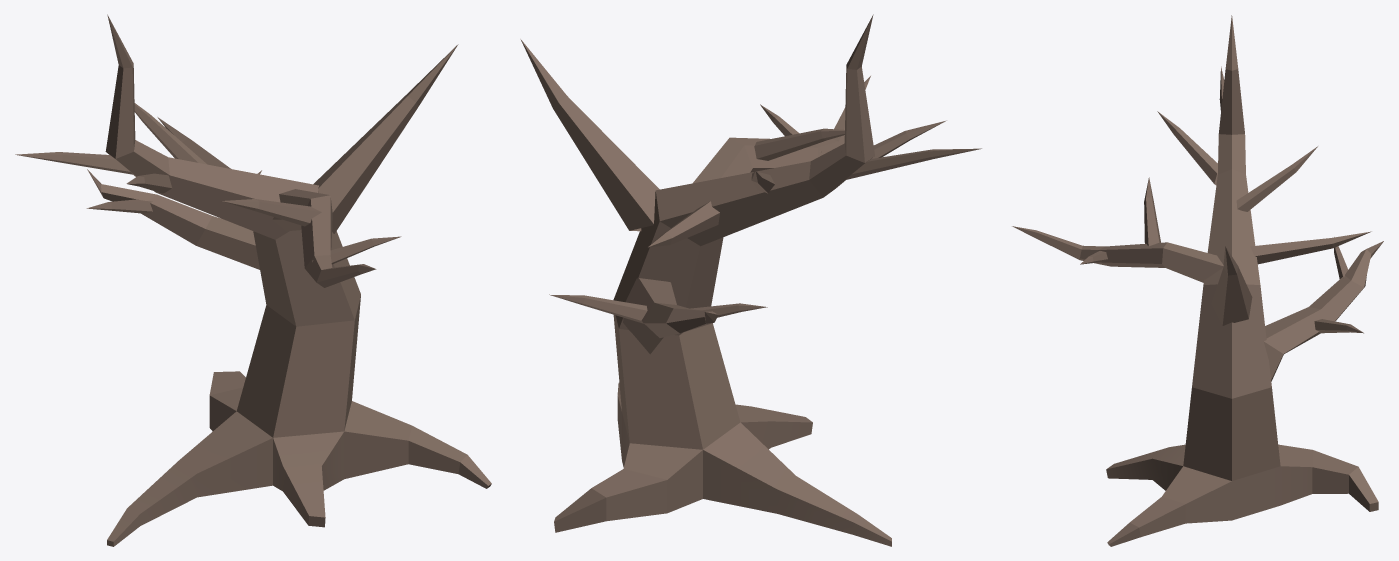
The model's file is Dead_tree.fbx.
The picture shows the model from 3 angles, left to right: view 1: azimuth 30°, elevation 25°; view 2: azimuth 150°, elevation 25°; view 3: azimuth 270°, elevation 25°; orthographic projection. The views are drawn at different scales.
Visible parts, largest first — view 1: Dead_Tree; view 2: Dead_Tree; view 3: Dead_Tree.
Part boxes in pixels (x1=…): Dead_Tree: x1=15, y1=14, x2=491, y2=546; Dead_Tree: x1=520, y1=14, x2=981, y2=546; Dead_Tree: x1=1012, y1=15, x2=1383, y2=546.
Size of the model in its own units: 0.3145 by 0.3509 by 0.275.
